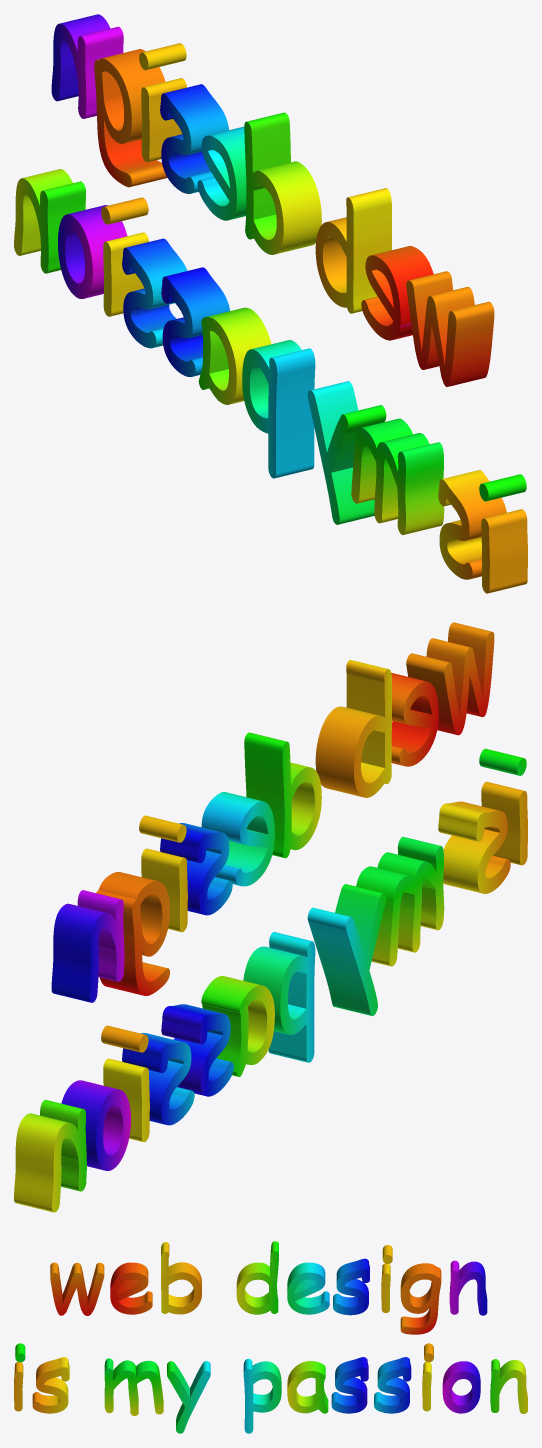
The model's file is Design.glb.
3 renders of one model, top to bottom at view 1: azimuth 30°, elevation 25°; view 2: azimuth 150°, elevation 25°; view 3: azimuth 270°, elevation 25°, orthographic. The views are drawn at different scales.
Parts seen in each view (by area): view 1: Text; view 2: Text; view 3: Text.
Boxes of the visible parts, x1=… form: Text: x1=14, y1=14, x2=527, y2=593; Text: x1=14, y1=622, x2=527, y2=1212; Text: x1=14, y1=1241, x2=527, y2=1433.
Bounding box in the file's own units: 0.1928 × 1.63 × 4.17.
1 material, 1 textured.
